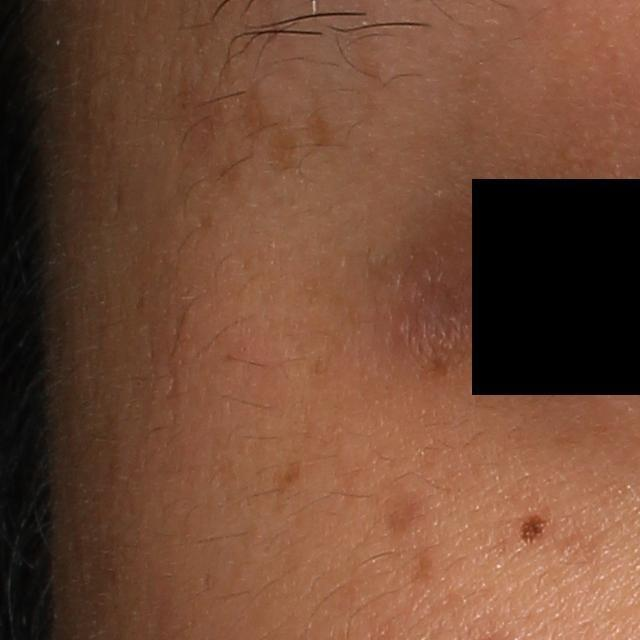melasma: (172, 74, 229, 169), (376, 479, 430, 536), (292, 89, 341, 151), (234, 77, 274, 147), (264, 115, 305, 173), (269, 456, 306, 498)
nevus: (518, 511, 552, 545)
